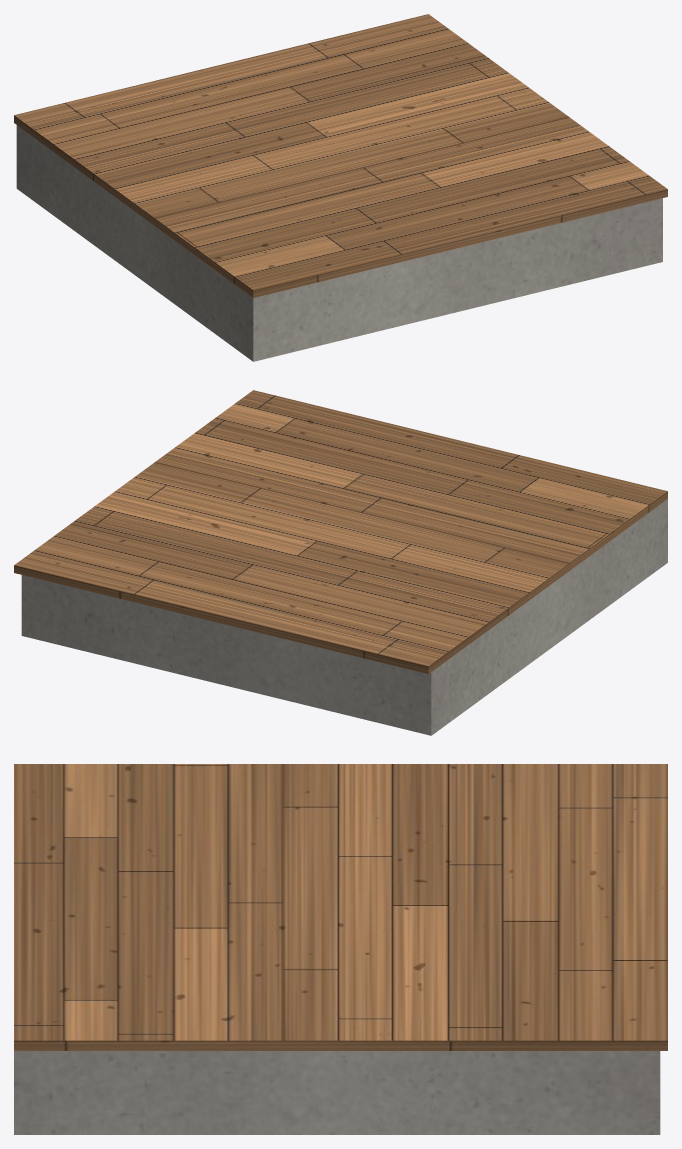
Rendered from floor_wood_g_e30_0_0_30.glb.
The picture shows the model from 3 angles, top to bottom: view 1: azimuth 30°, elevation 25°; view 2: azimuth 150°, elevation 25°; view 3: azimuth 270°, elevation 25°; orthographic projection. The views are drawn at different scales.
Parts seen in each view (by area): view 1: floor_wood_g_e30_0_0_30_floor, floor_wood_g_e30_0_0_30_concrete; view 2: floor_wood_g_e30_0_0_30_floor, floor_wood_g_e30_0_0_30_concrete; view 3: floor_wood_g_e30_0_0_30_floor, floor_wood_g_e30_0_0_30_concrete.
Boxes of the visible parts, x1,y1,x2,y2 form: floor_wood_g_e30_0_0_30_floor: [14, 14, 667, 297]; floor_wood_g_e30_0_0_30_concrete: [16, 125, 662, 361]; floor_wood_g_e30_0_0_30_floor: [14, 390, 667, 673]; floor_wood_g_e30_0_0_30_concrete: [21, 499, 667, 735]; floor_wood_g_e30_0_0_30_floor: [14, 764, 667, 1050]; floor_wood_g_e30_0_0_30_concrete: [14, 1051, 660, 1134].
Bounding box in the file's own units: 1.7 × 0.28 × 1.7.
Materials: 2 (2 with a texture image).
